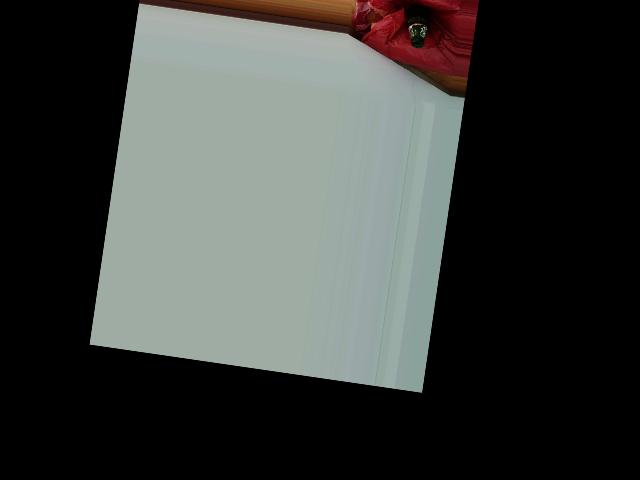beer: (402, 2, 433, 48)
